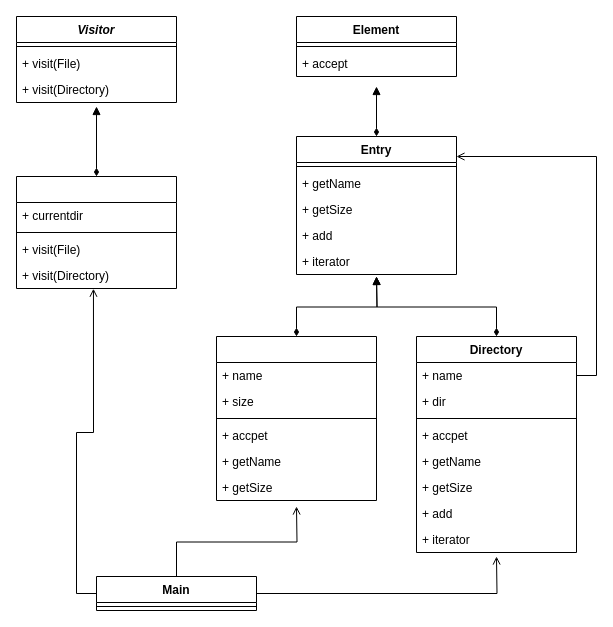
This 613x627 diagram has some shape labels left out. Here are the shapes that lost their labels. From the top down, the box of each, then its label:
(16, 176, 176, 288): ListVisitor
(216, 336, 376, 500): File
